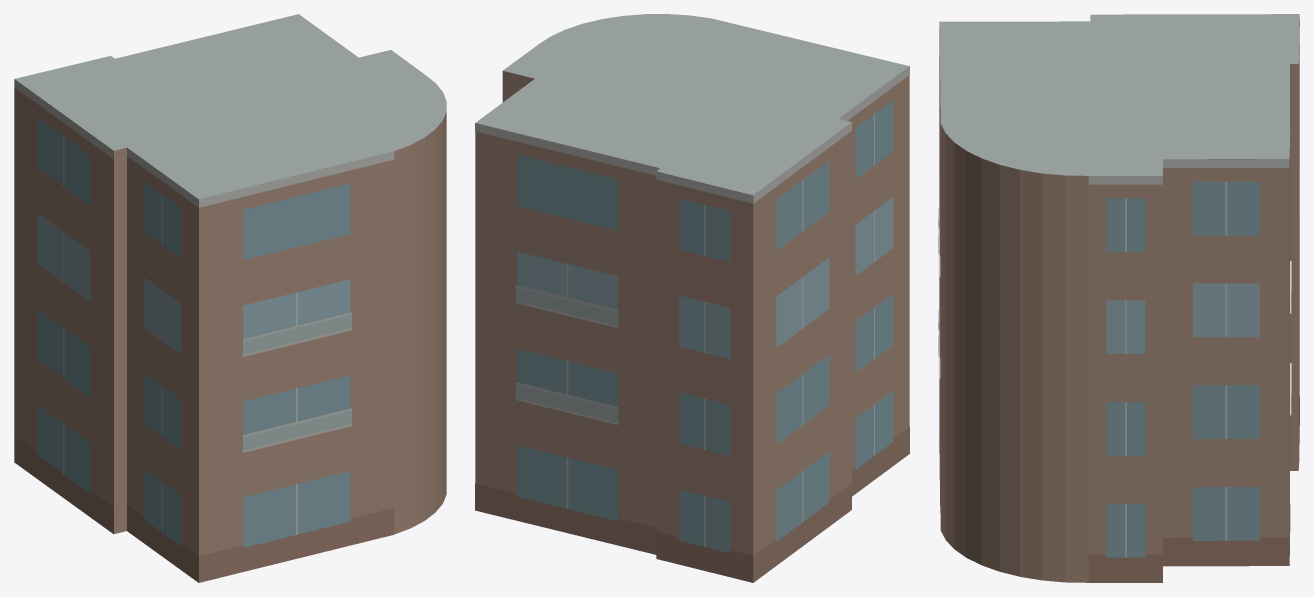
File: survey-upis-32615581.glb
3 views of the same model, side by side, from view 1: azimuth 30°, elevation 25°; view 2: azimuth 150°, elevation 25°; view 3: azimuth 270°, elevation 25° (orthographic). The views are drawn at different scales.
Visible parts, largest first — view 1: survey-upis-32615581.tmp; view 2: survey-upis-32615581.tmp; view 3: survey-upis-32615581.tmp.
Part boxes in pixels (x1,y1,x2,y2): survey-upis-32615581.tmp: [14, 14, 446, 582]; survey-upis-32615581.tmp: [475, 14, 909, 582]; survey-upis-32615581.tmp: [938, 14, 1299, 582].
Bounding box in the file's own units: 9.57 × 11.2 × 9.02.
